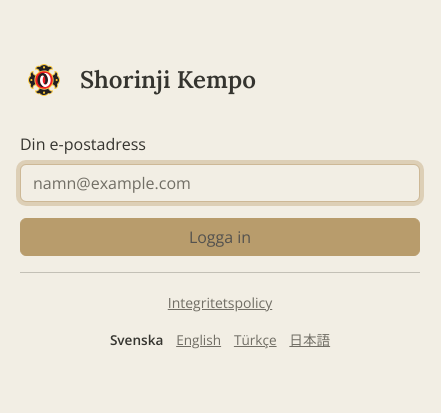
Test: LoginScreen — how long the code lasts › words a one-minute code in the singular
Type "kenshi@example.org" into the field labelled "Din e-postadress".
click(220, 183); type("kenshi@example.org")  # box [20,164,420,202]
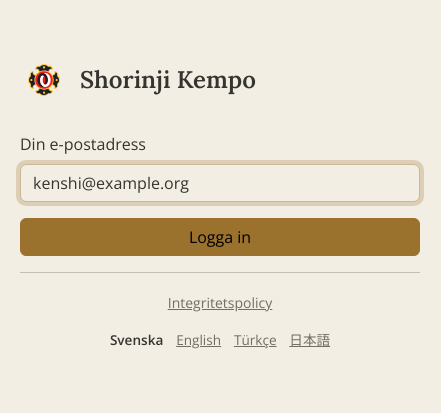
Click the button "Logga in".
click(220, 237)  # box [20,218,420,256]
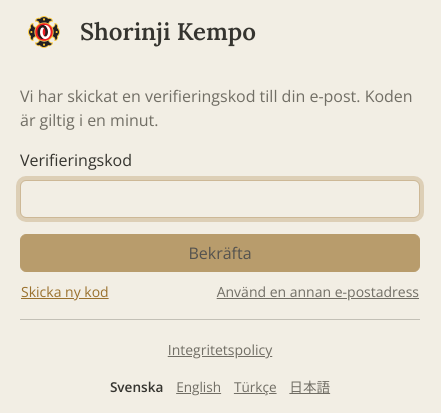
Expected: the text "Koden är giltig i en minut." is shown, [20,85,413,131]
